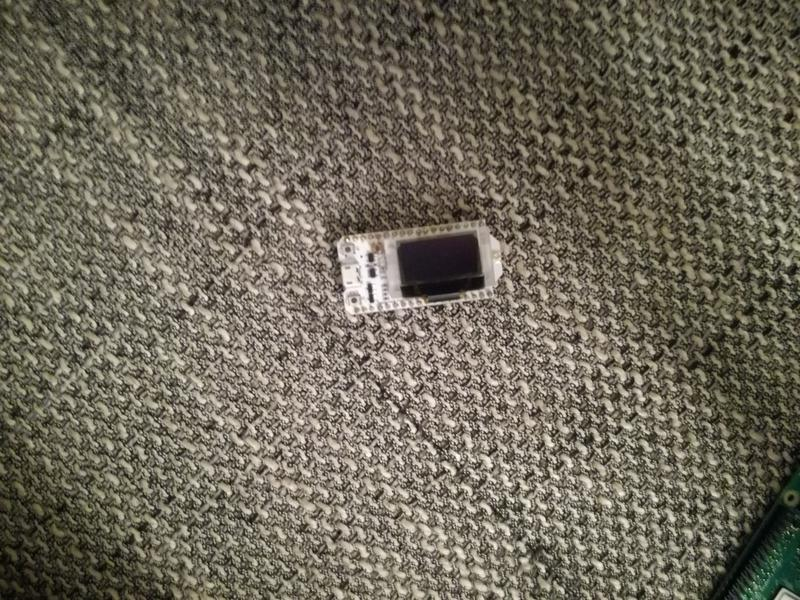Heltec_ESP32_Lora: (334, 216, 513, 318)
